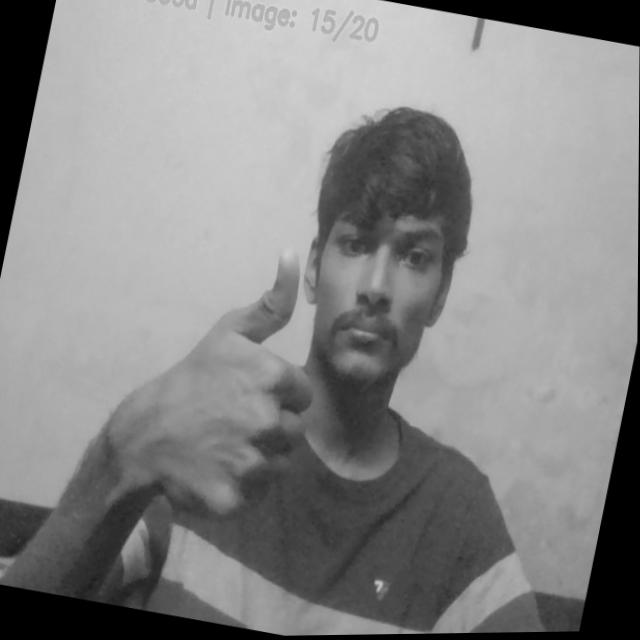Good: (125, 223, 344, 545)
